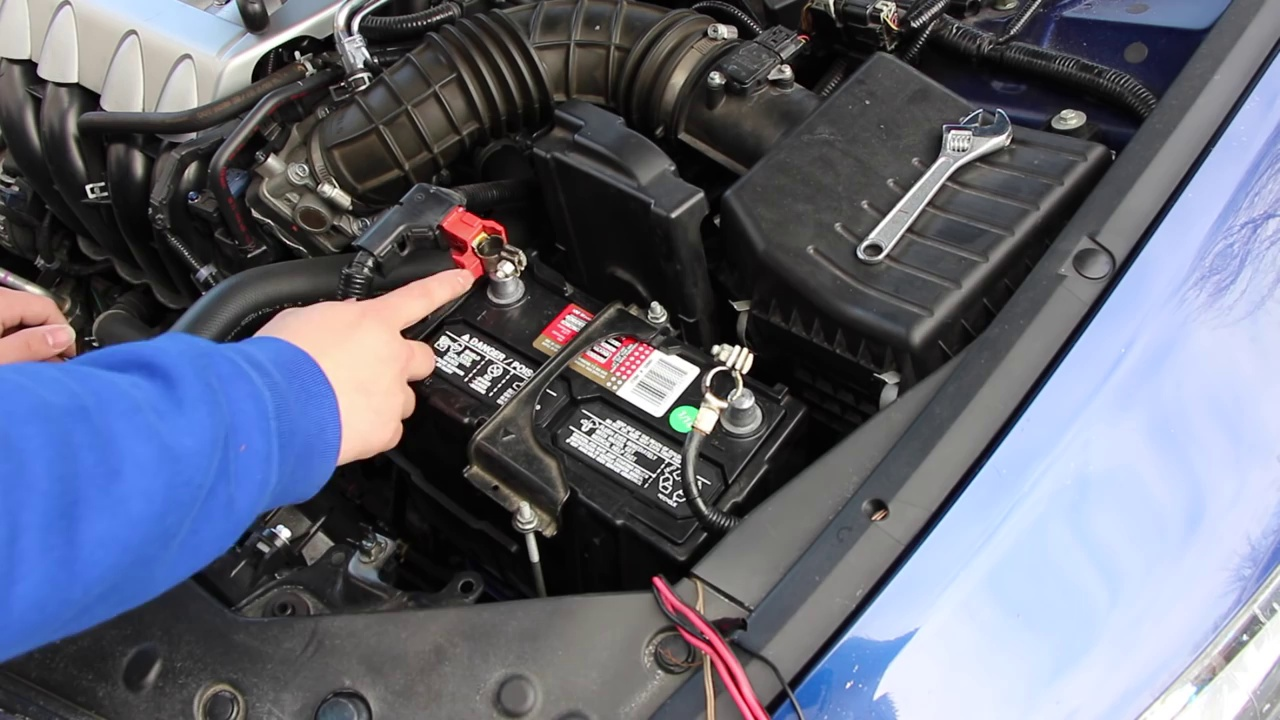battery: (381, 245, 795, 567)
neg_disconnected: (672, 318, 792, 456)
pos_disconnected: (413, 206, 535, 315)
pos_touched: (395, 200, 536, 375)
